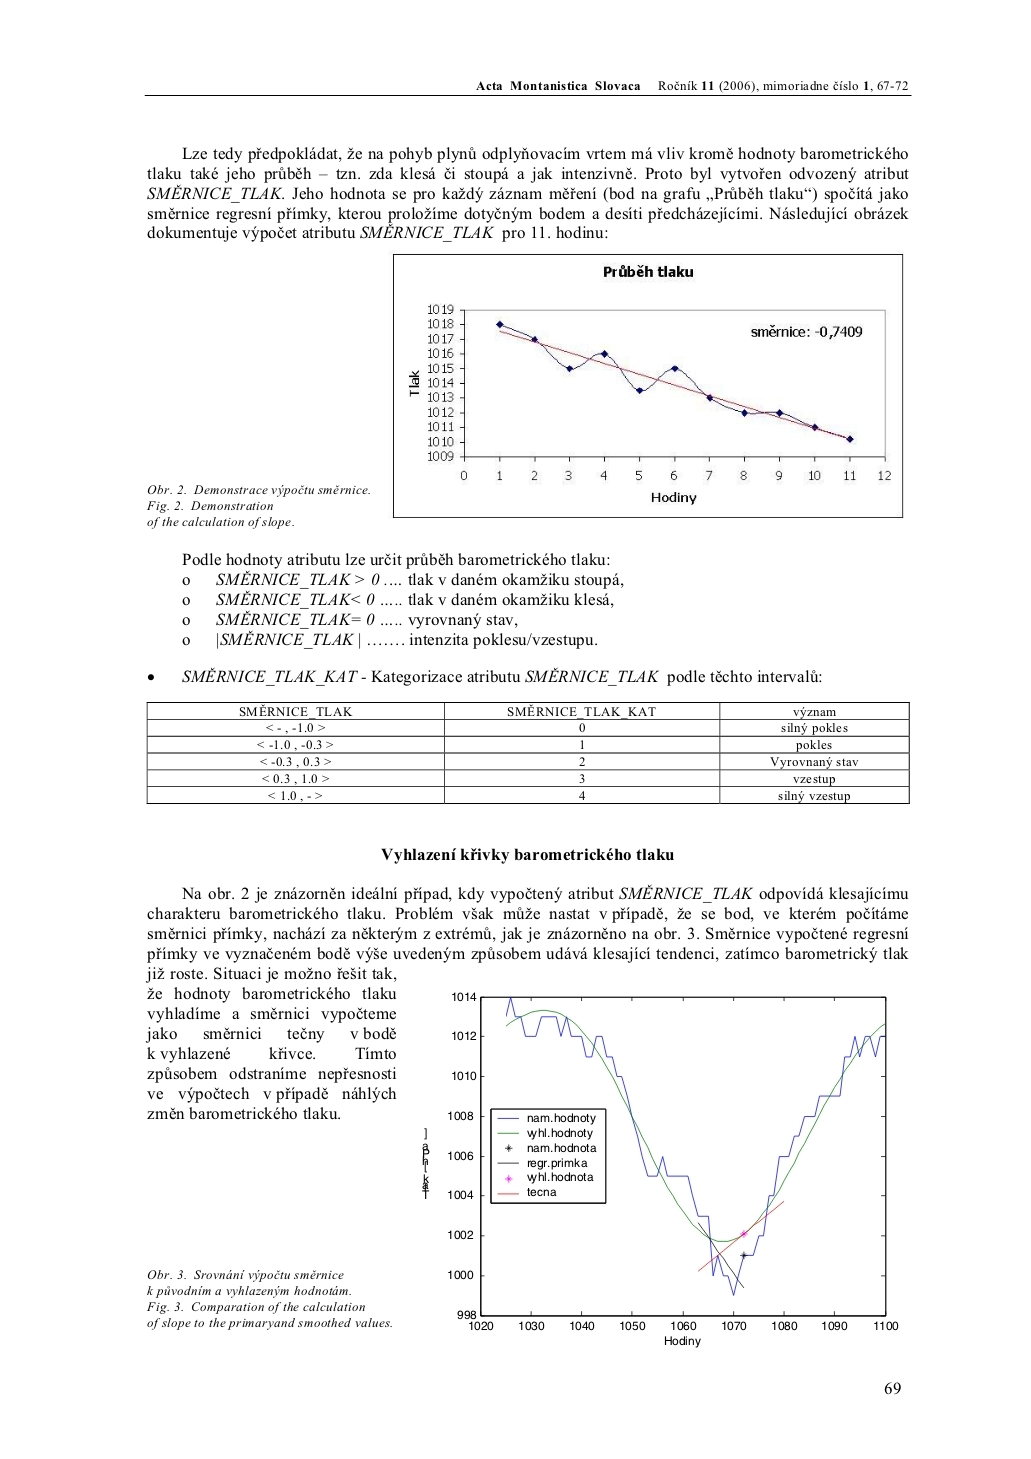Table: (146, 700, 909, 804)
figure: (422, 992, 898, 1347), (389, 252, 903, 516)
